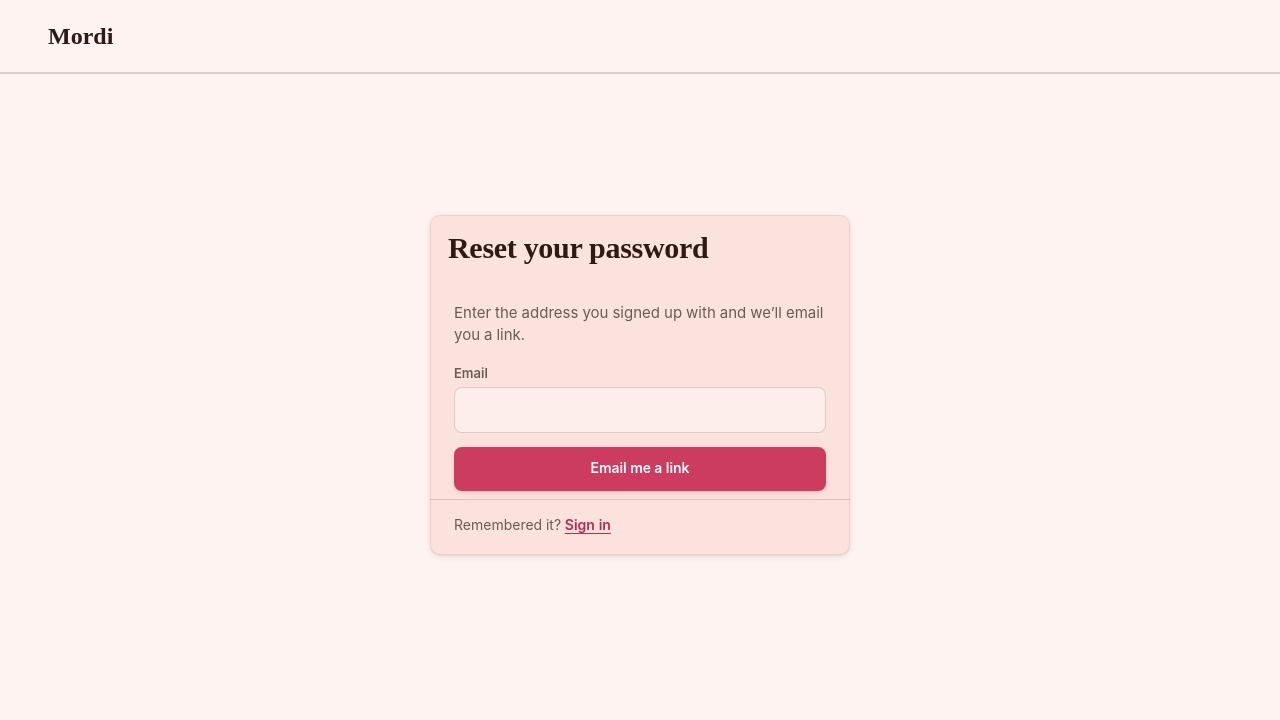
Scenario: ForgotPassword › asks to wait after too many tries
The image size is (1280, 720).
Type "ana@example.com" into the field labelled "Email" at (640, 410), box top-left (454, 387), bottom-right (826, 433)
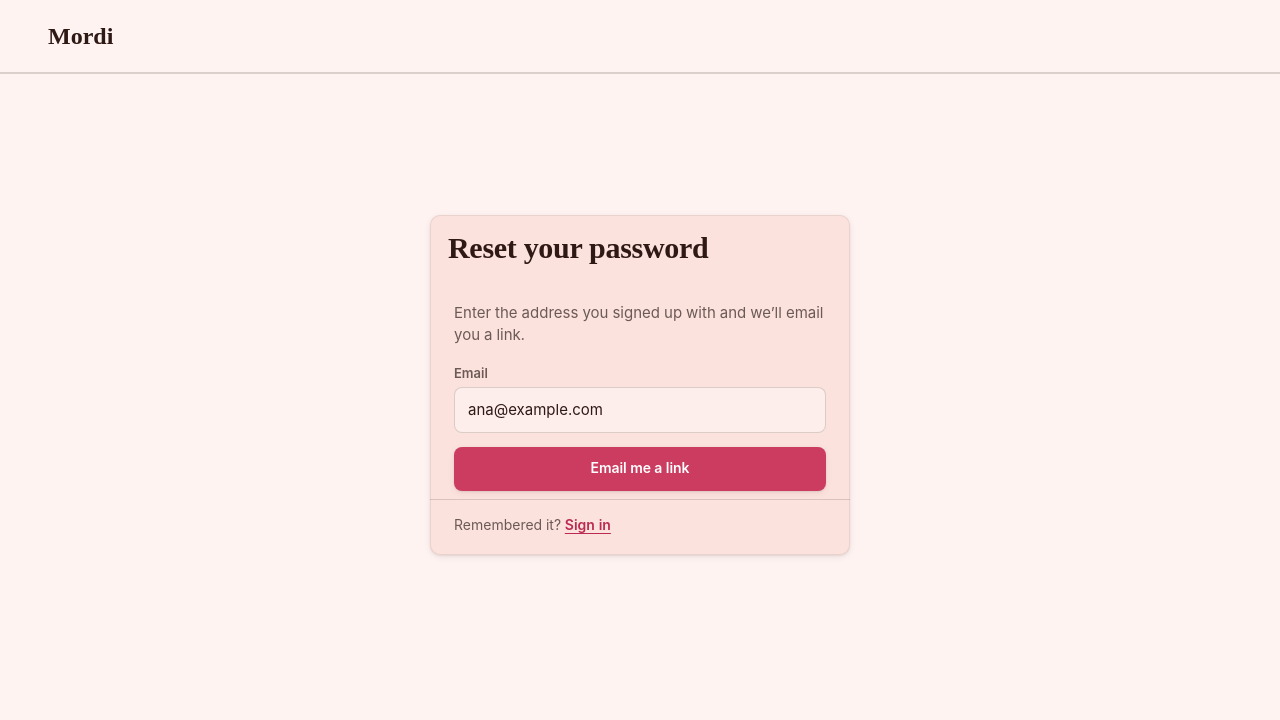
Click the button "Email me a link" at (640, 469), box top-left (454, 447), bottom-right (826, 491)
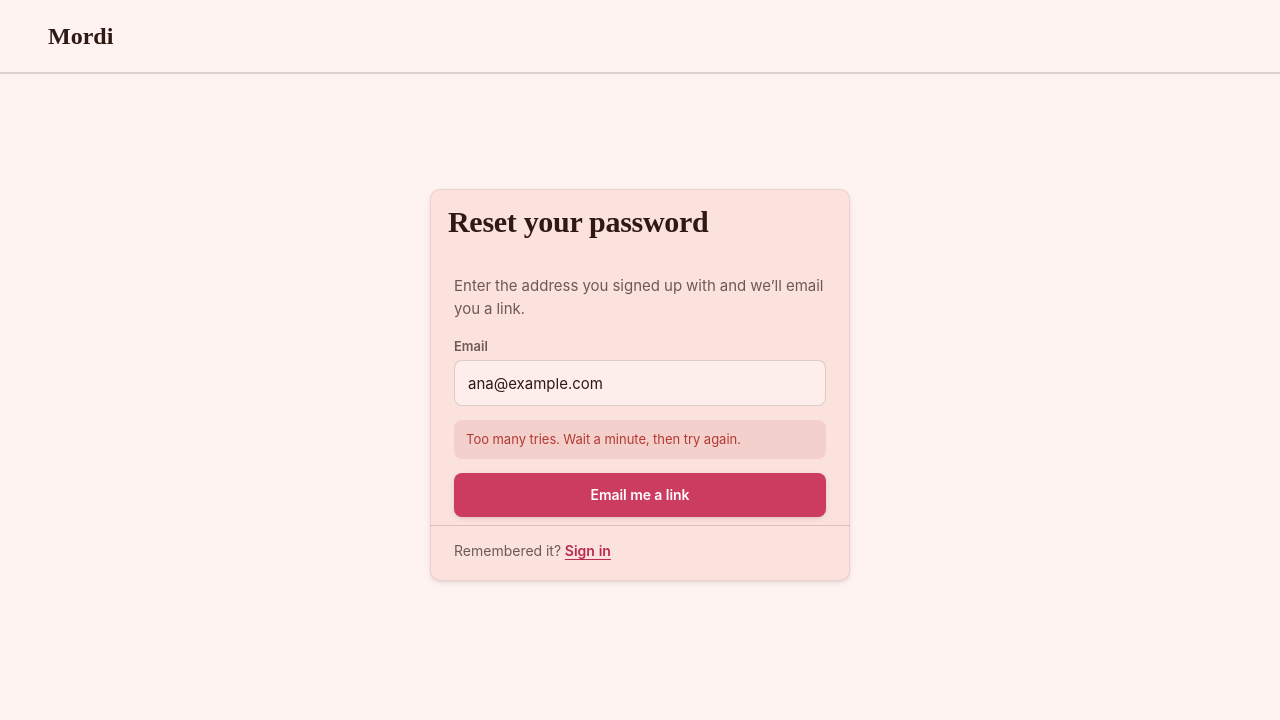
Check: the message shows "Wait a minute", box top-left (466, 431), bottom-right (741, 447)
